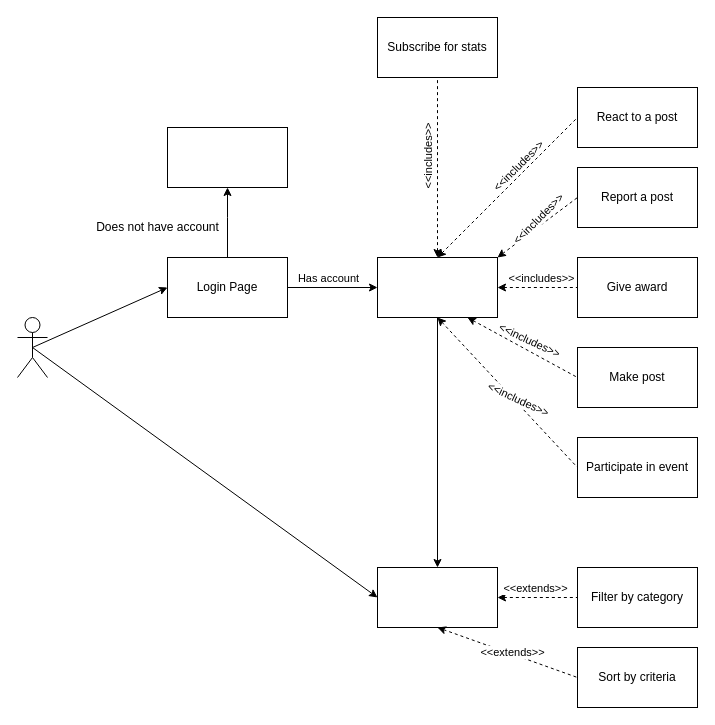
The diagram is 715 pixels wide and 725 high, and some of its shapes have lost their labels. Here are the shapes that lost their labels. From the top down, the centre of each, then its label:
At [227,157]: "Create new account".
At [437,287]: "Login".
At [32,347]: "User".
At [437,597]: "Website Joke Feed".
